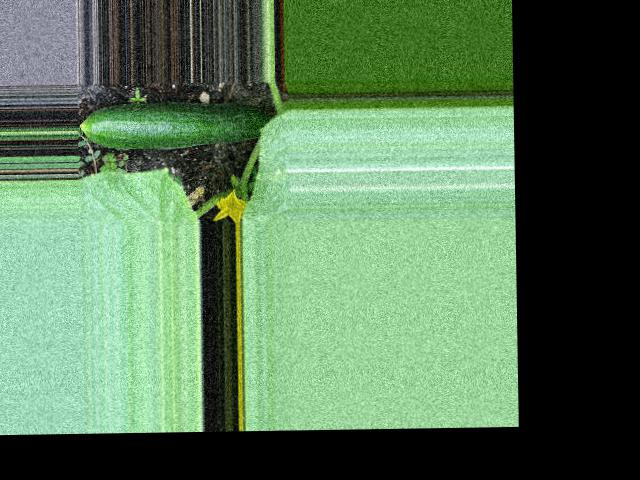cucumber: (78, 99, 271, 150)
